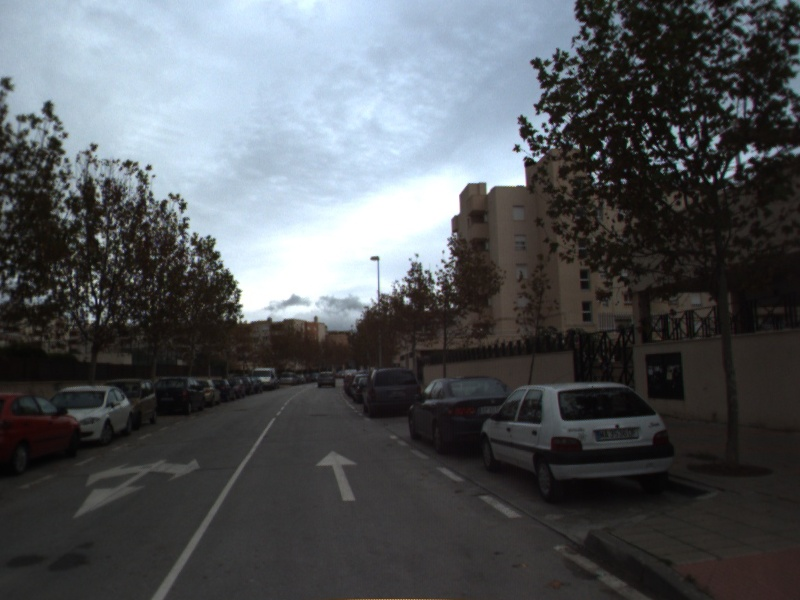STRAIGHT: (313, 448, 360, 503)
